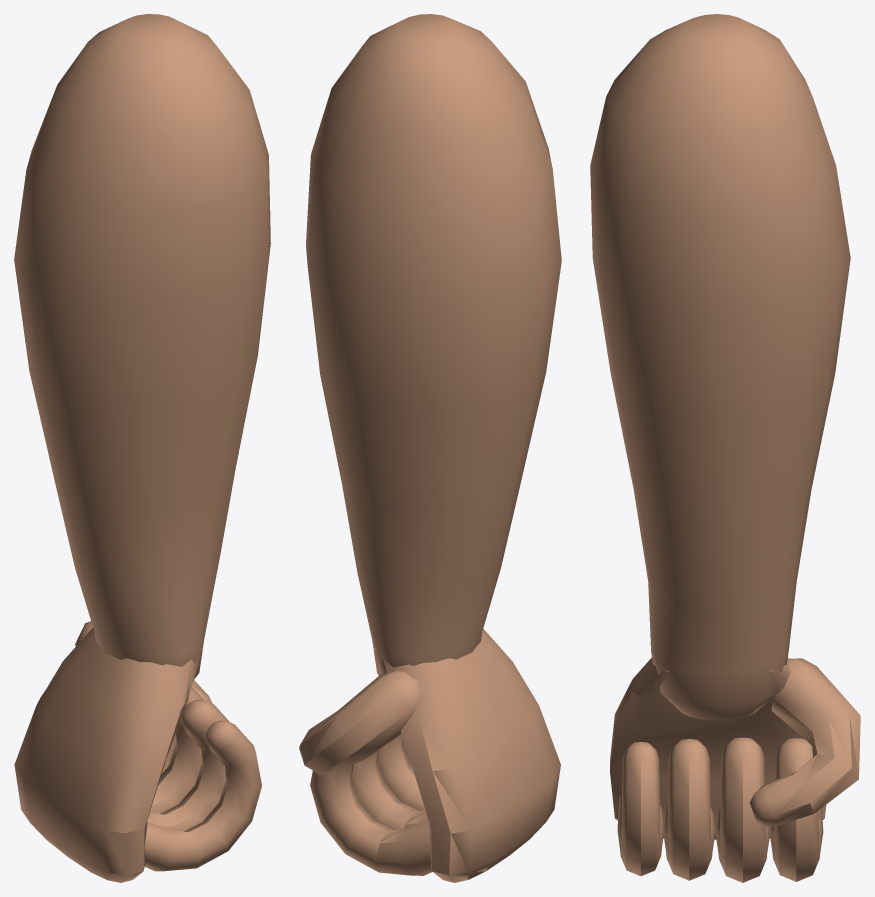
File: forearm_l.glb
The picture shows the model from 3 angles, left to right: view 1: azimuth 30°, elevation 25°; view 2: azimuth 150°, elevation 25°; view 3: azimuth 270°, elevation 25°; orthographic projection. The views are drawn at different scales.
Parts seen in each view (by area): view 1: OUT; view 2: OUT; view 3: OUT.
Boxes of the visible parts, <box> form: OUT: <box>14,14,270,882</box>; OUT: <box>299,14,561,882</box>; OUT: <box>590,14,860,882</box>.
Bounding box in the file's own units: 0.1058 × 0.367 × 0.1061.
